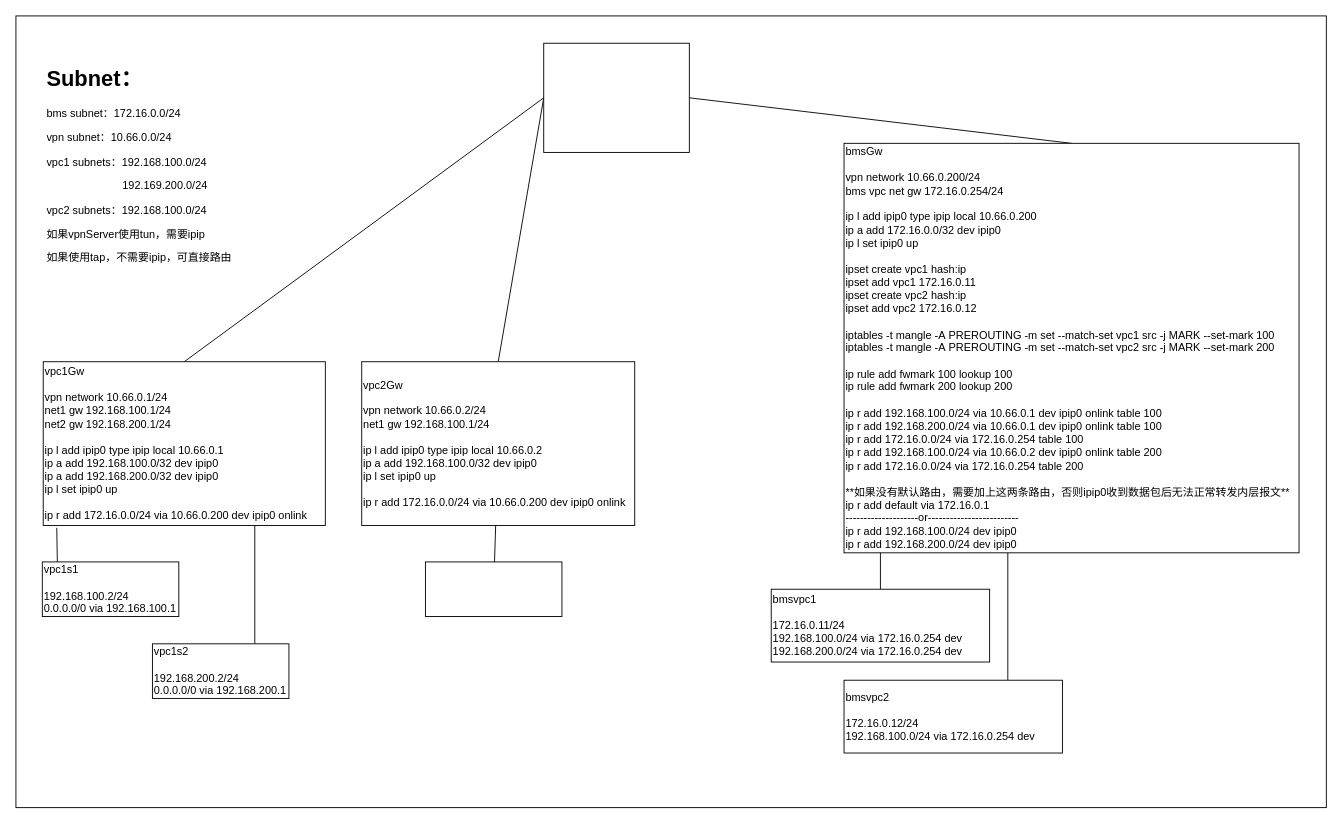
Image size: 1342x824. Some labels were removed from this diagram. The shapes that lost their labels are listed below. From the top down, each one's centre as x and y in pixels, then its label:
(616,97): vpnServer vpn network 10.66.0.254/24
(493,589): vpc2vm1 192.168.100.2/24 0.0.0.0/0 via 192.168.100.1
